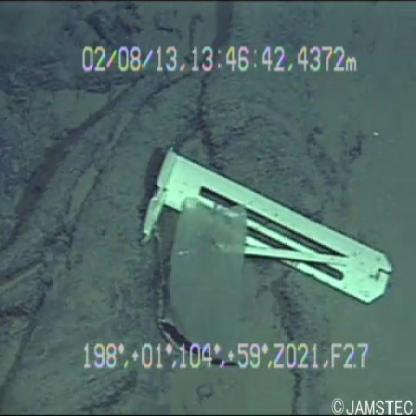Rác: (132, 135, 395, 328)
